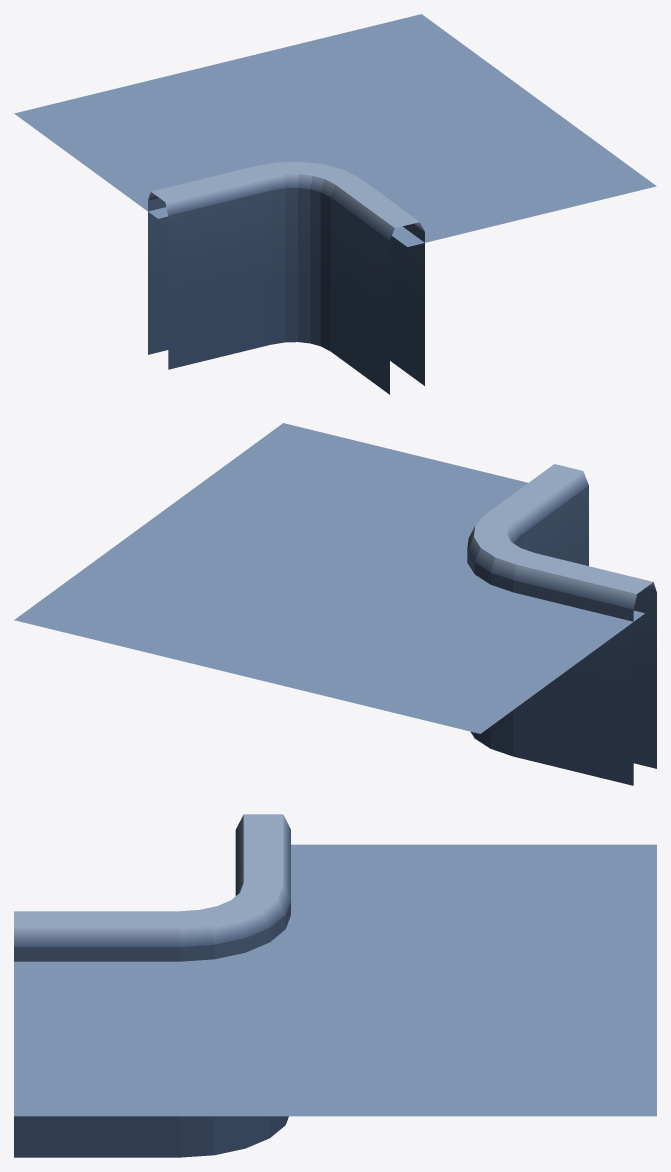
Rendered from Base_Outer.fbx.
The picture shows the model from 3 angles, top to bottom: view 1: azimuth 30°, elevation 25°; view 2: azimuth 150°, elevation 25°; view 3: azimuth 270°, elevation 25°; orthographic projection. The views are drawn at different scales.
Visible parts, largest first — view 1: Base_Outer; view 2: Base_Outer; view 3: Base_Outer.
Boxes of the visible parts, x1,y1,x2,y2 form: Base_Outer: (14, 14, 656, 394); Base_Outer: (14, 423, 656, 785); Base_Outer: (14, 814, 656, 1157).
Size of the model in its own units: 116 by 45 by 116.
1 material, 1 textured.
